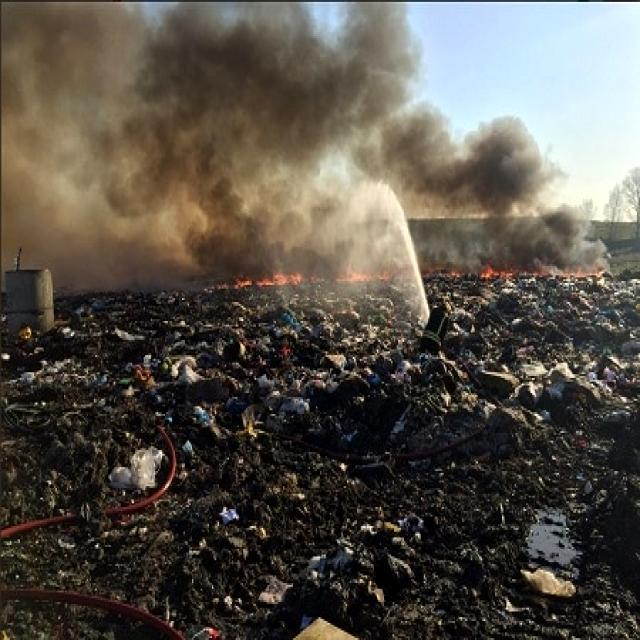Smoke: (0, 0, 588, 303)
